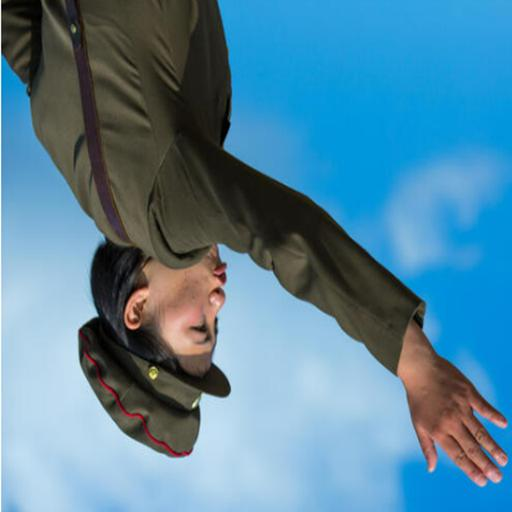north army: (10, 5, 471, 464)
